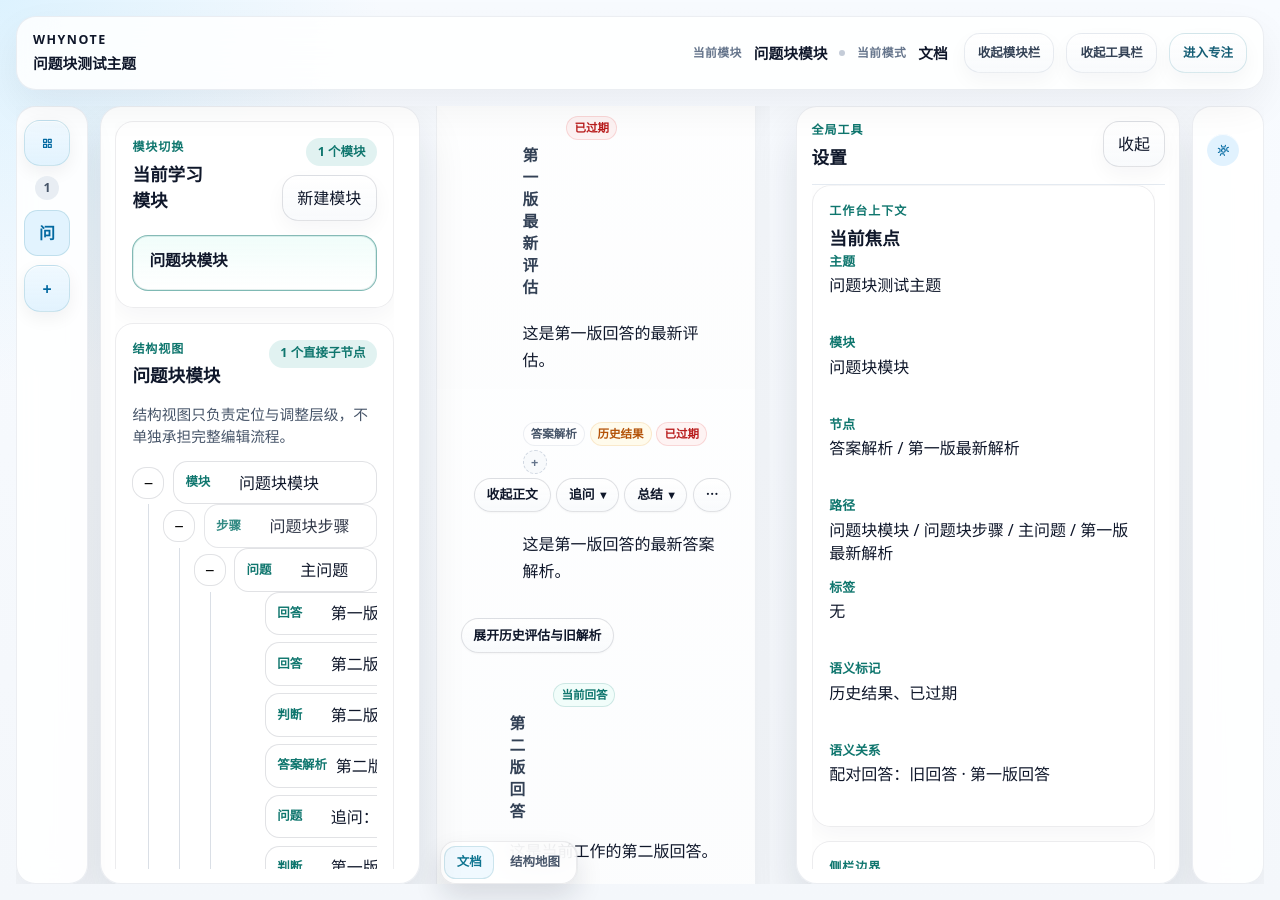
Test: keeps AI and manual follow-up/summary entries under the selected content node summary-first-latest
(page scrolled)
Click the button "追问▾" at {"x": 588, "y": 495}, box [556, 478, 619, 512]
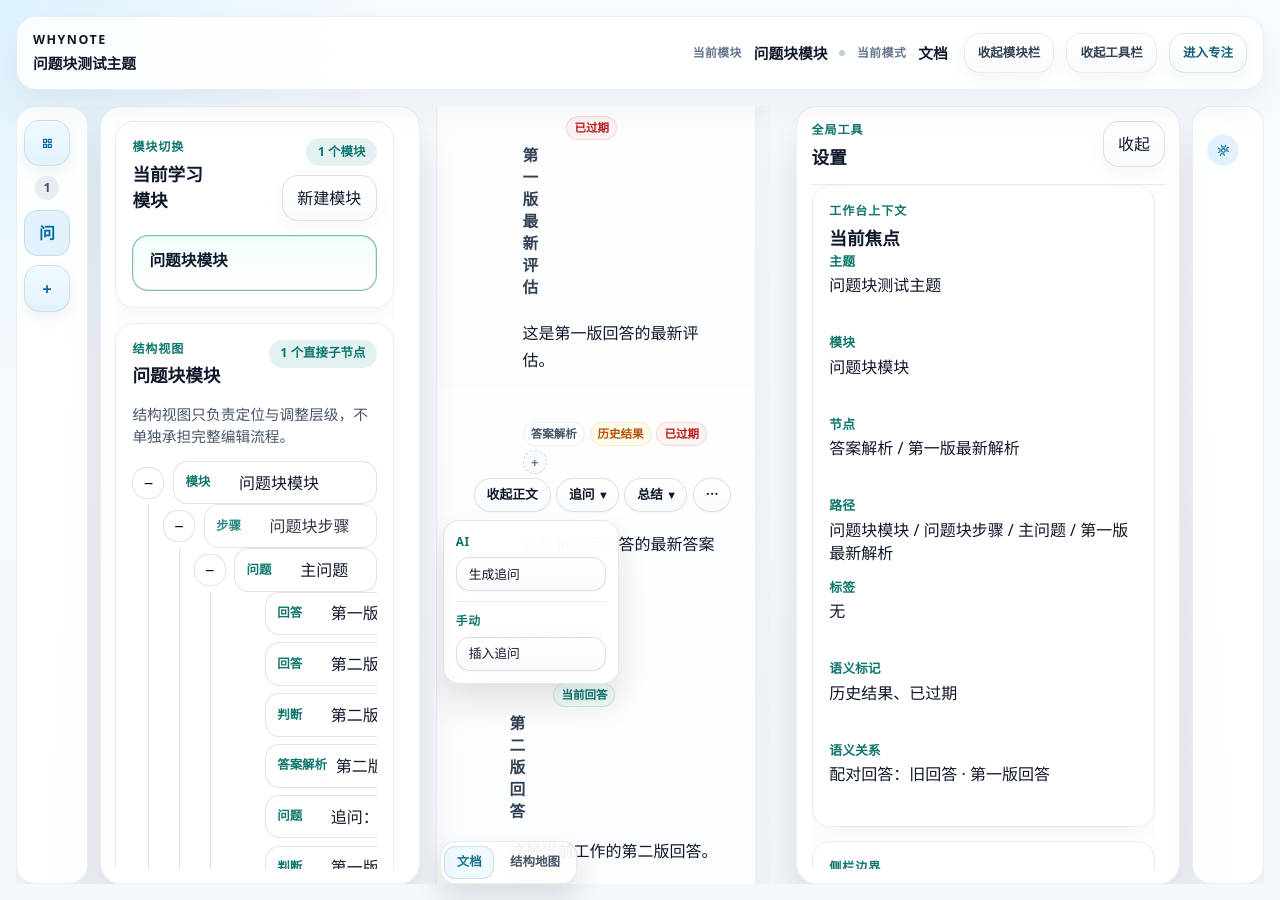
Expected: the button "生成追问" is shown, [456, 558, 606, 592]
Expected: the button "插入追问" is shown, [456, 637, 606, 671]
Click the button "总结▾" at {"x": 656, "y": 495}, box [624, 478, 687, 512]
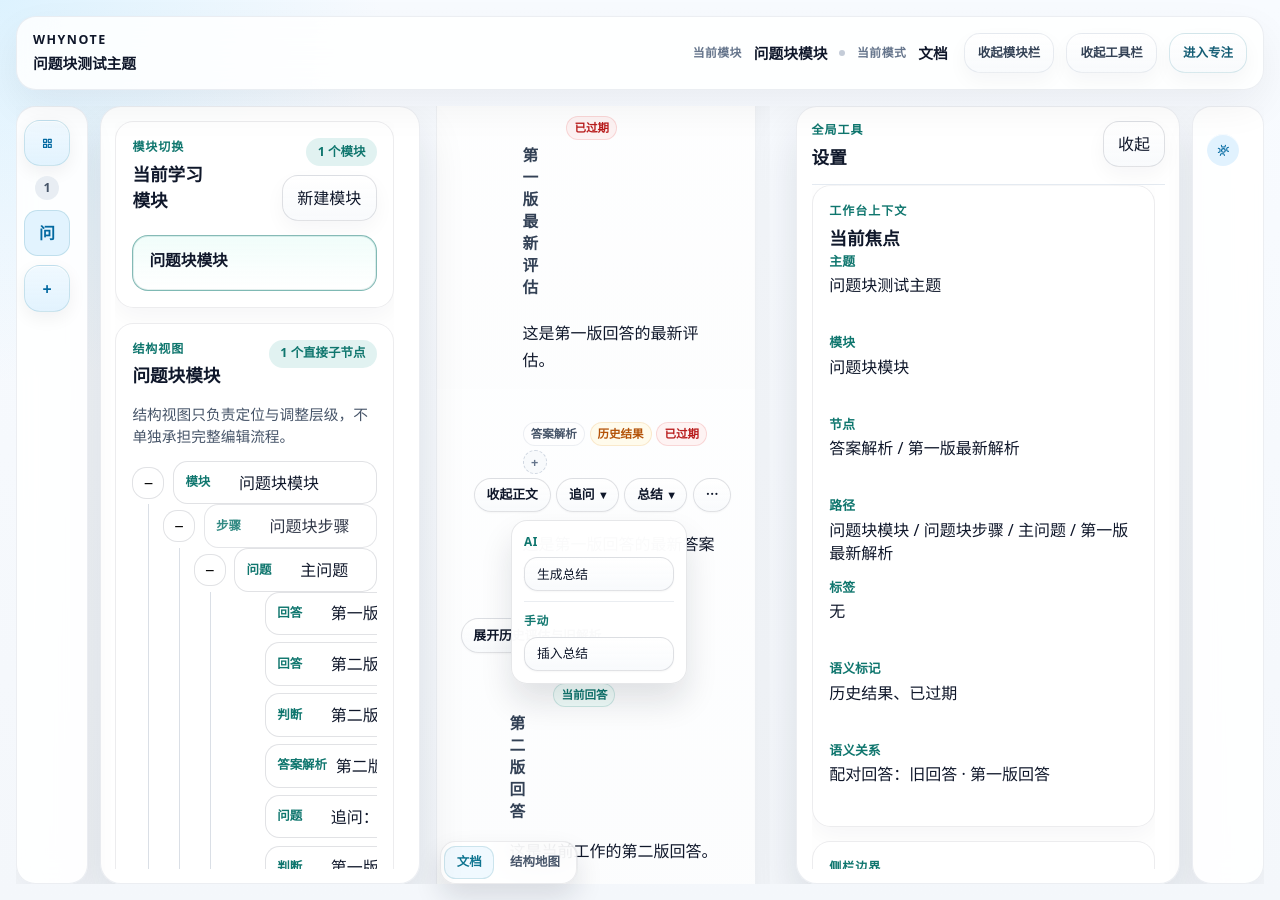
Expected: the button "生成总结" is shown, [524, 558, 674, 592]
Expected: the button "插入总结" is shown, [524, 637, 674, 671]
